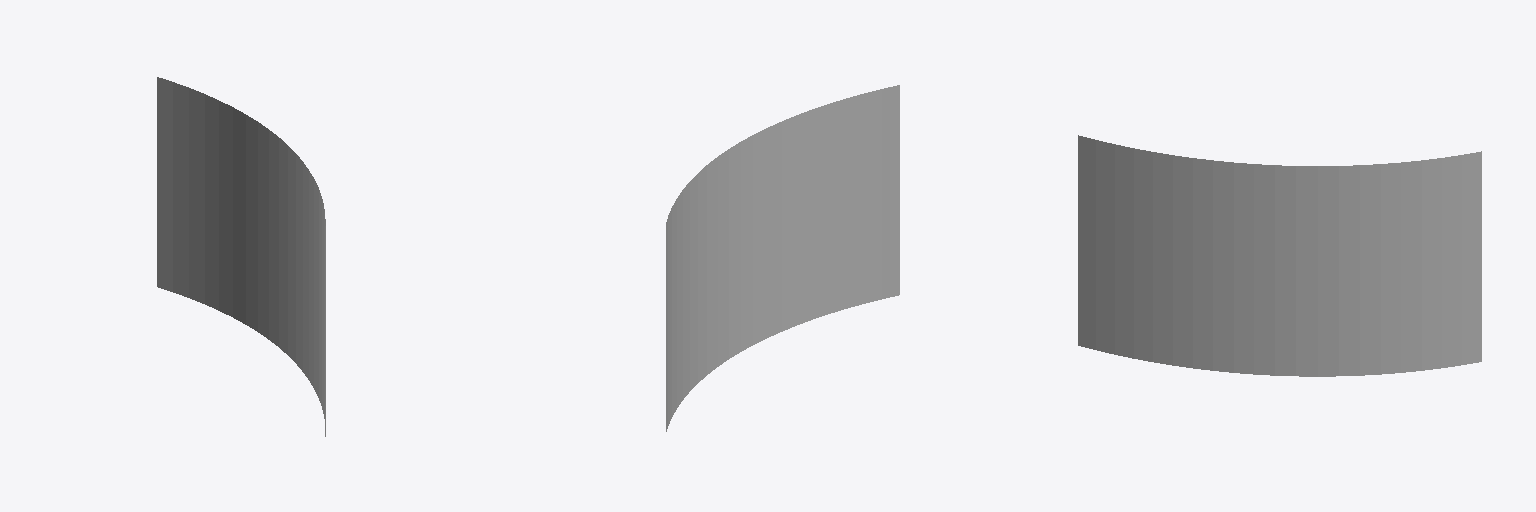
The model's file is Screen_4.obj.
3 renders of one model, left to right at view 1: azimuth 30°, elevation 25°; view 2: azimuth 150°, elevation 25°; view 3: azimuth 270°, elevation 25°, orthographic.
Visible parts, largest first — view 1: stage1_4_feed; view 2: stage1_4_feed; view 3: stage1_4_feed.
Boxes of the visible parts, box(x1,y1,x2,y2) form: stage1_4_feed: box(157, 77, 325, 436); stage1_4_feed: box(666, 85, 899, 431); stage1_4_feed: box(1078, 135, 1481, 376).
Bounding box in the file's own units: 1.73 × 5.5 × 9.55.